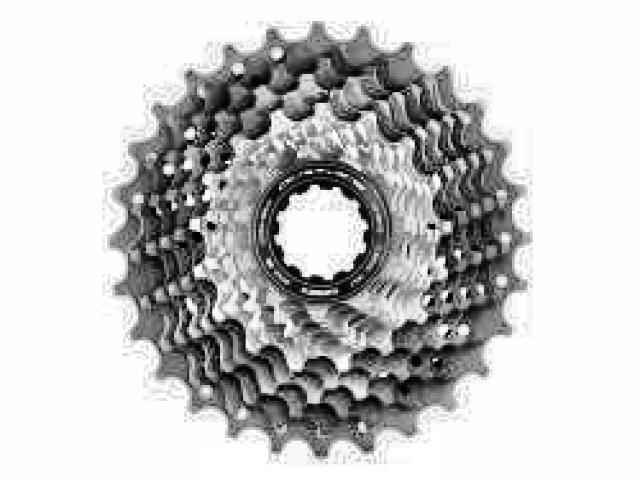cassette: (106, 20, 530, 458)
